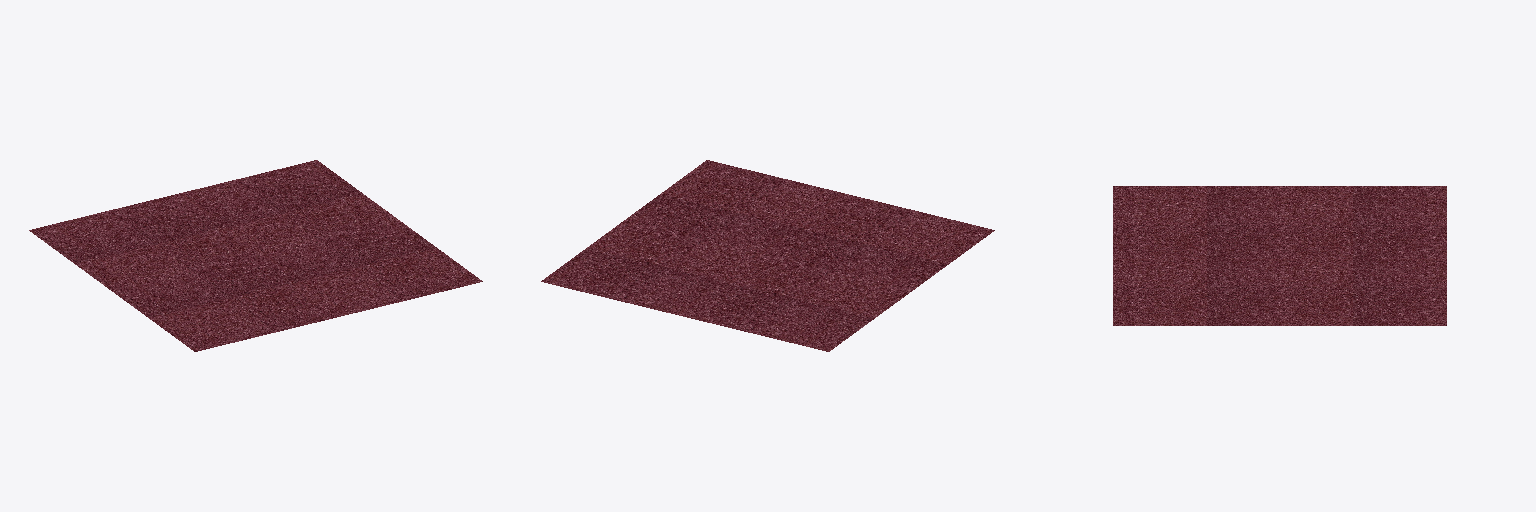
3 renders of one model, left to right at view 1: azimuth 30°, elevation 25°; view 2: azimuth 150°, elevation 25°; view 3: azimuth 270°, elevation 25°, orthographic.
Parts seen in each view (by area): view 1: Plane; view 2: Plane; view 3: Plane.
Boxes of the visible parts, x1=… form: Plane: x1=29, y1=160, x2=482, y2=351; Plane: x1=541, y1=160, x2=994, y2=351; Plane: x1=1113, y1=186, x2=1446, y2=325.
Size of the model in its own units: 8 by 0 by 8.
Materials: 1 (1 with a texture image).